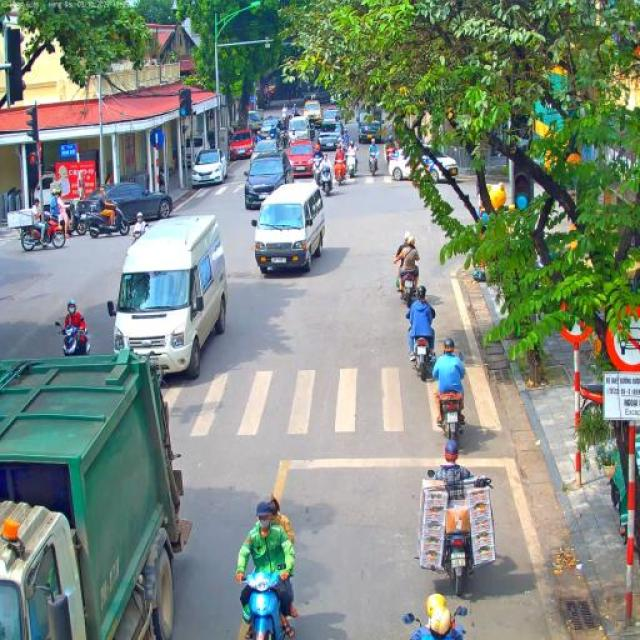bus: (108, 213, 228, 381), (252, 182, 326, 273)
car: (81, 181, 174, 224), (243, 149, 294, 209), (388, 146, 459, 184), (191, 148, 229, 187), (286, 140, 316, 178), (318, 119, 347, 153), (229, 129, 255, 161), (288, 115, 310, 144), (250, 138, 280, 158), (303, 100, 322, 128), (320, 106, 341, 128), (258, 118, 278, 141), (248, 110, 264, 134)
motorcycle: (414, 468, 498, 598), (236, 561, 289, 640), (402, 605, 468, 640), (20, 209, 66, 252), (86, 200, 130, 238), (438, 390, 464, 450), (56, 321, 92, 357), (411, 335, 435, 383), (65, 196, 90, 236), (399, 268, 416, 308), (319, 168, 333, 196), (334, 159, 346, 186), (345, 152, 357, 178), (368, 152, 378, 177), (312, 162, 322, 186), (384, 146, 396, 166), (274, 132, 286, 152), (130, 230, 144, 244), (280, 112, 288, 124)
truck: (0, 346, 194, 640), (356, 102, 405, 143)
